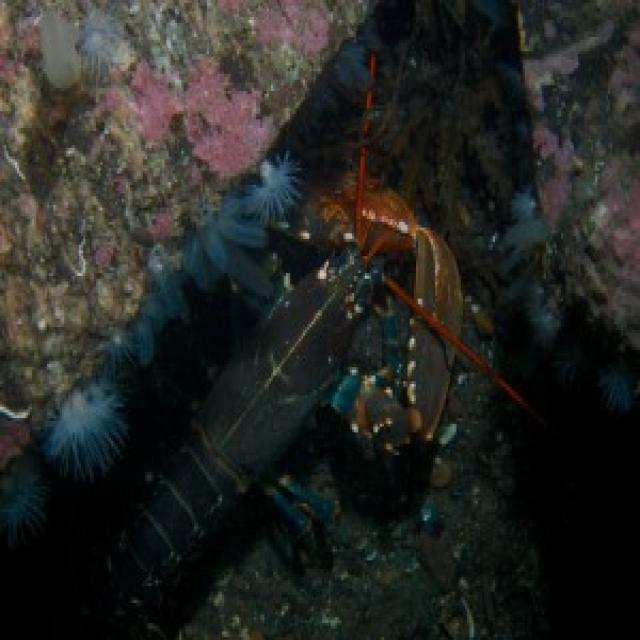lobsters: (154, 151, 606, 624)
